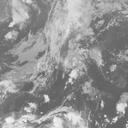cyclone: (52, 44, 90, 82)
